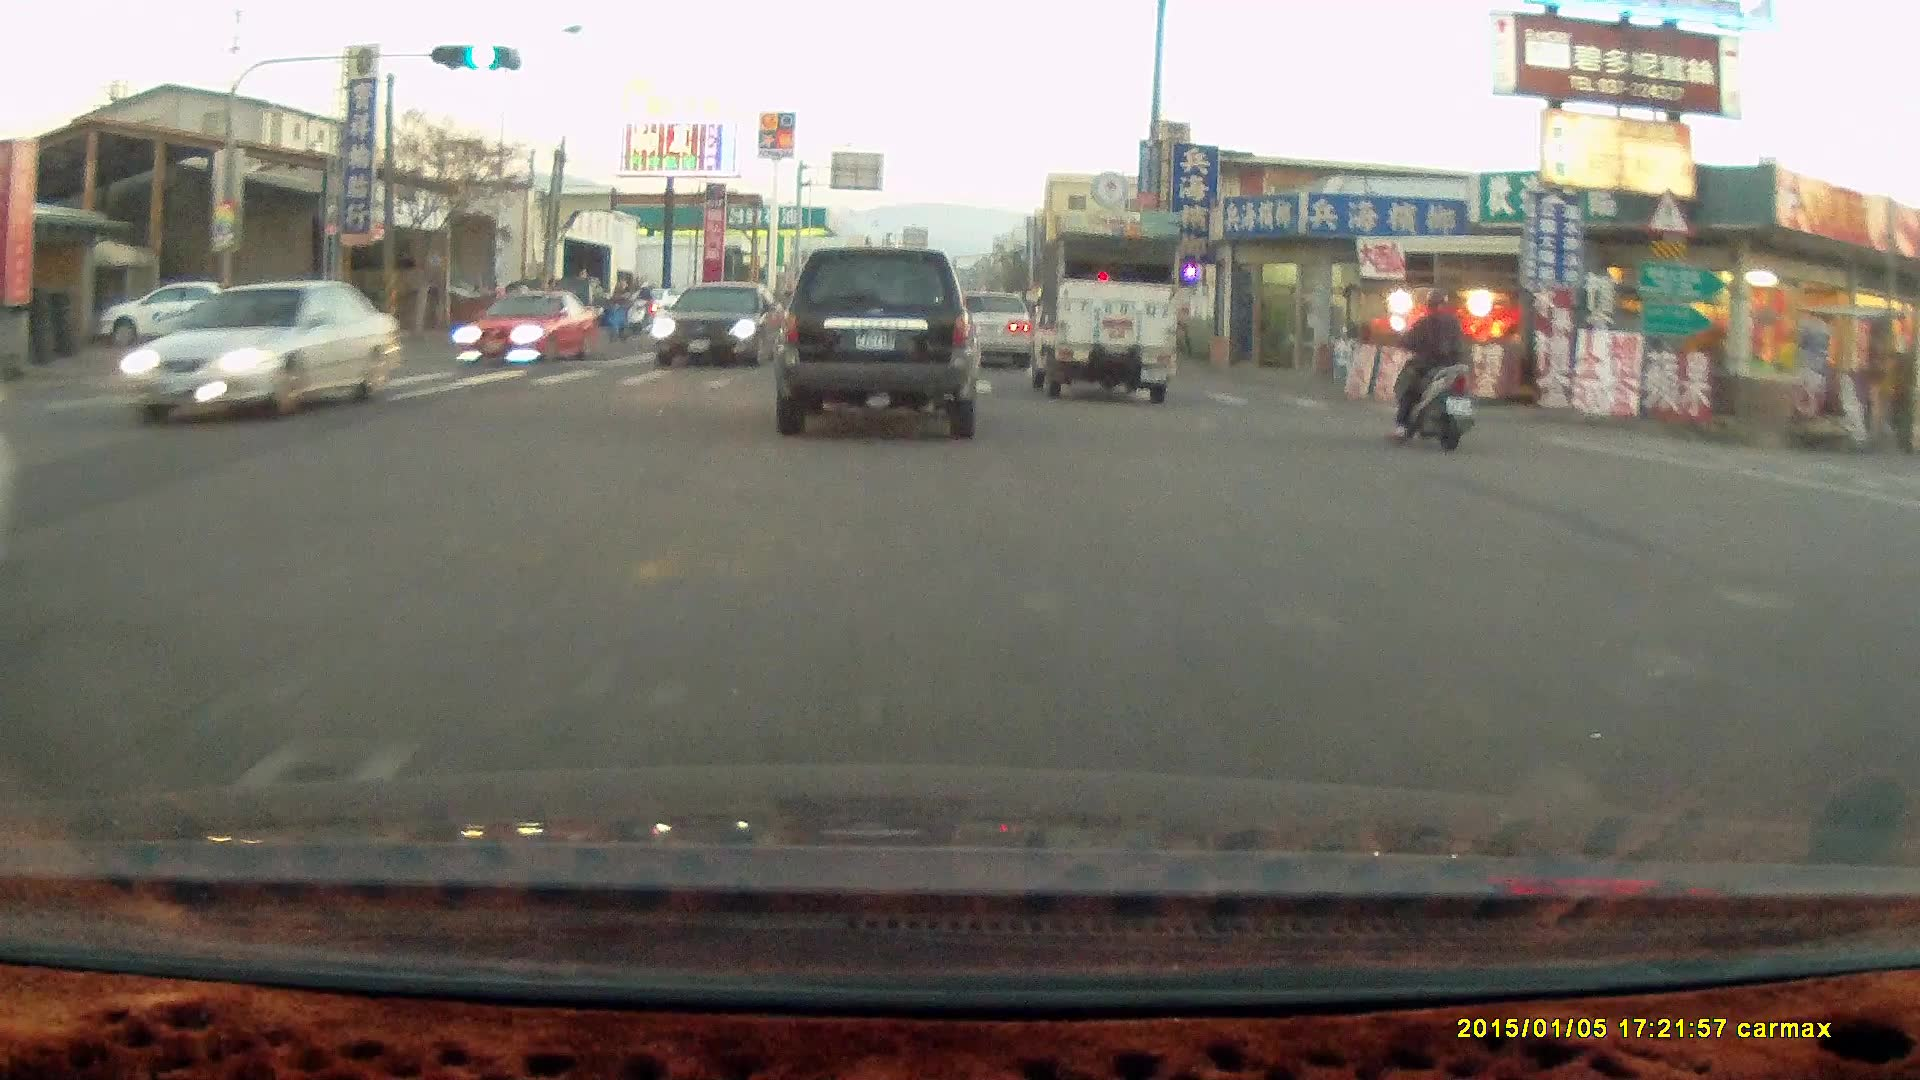rider: (1385, 281, 1473, 444), (600, 287, 636, 343), (624, 283, 659, 337)
vehicle: (772, 245, 984, 439), (130, 284, 399, 424), (1022, 231, 1176, 403), (654, 280, 797, 372), (459, 287, 597, 365), (97, 284, 261, 347), (944, 289, 1032, 368), (954, 295, 1036, 372)
